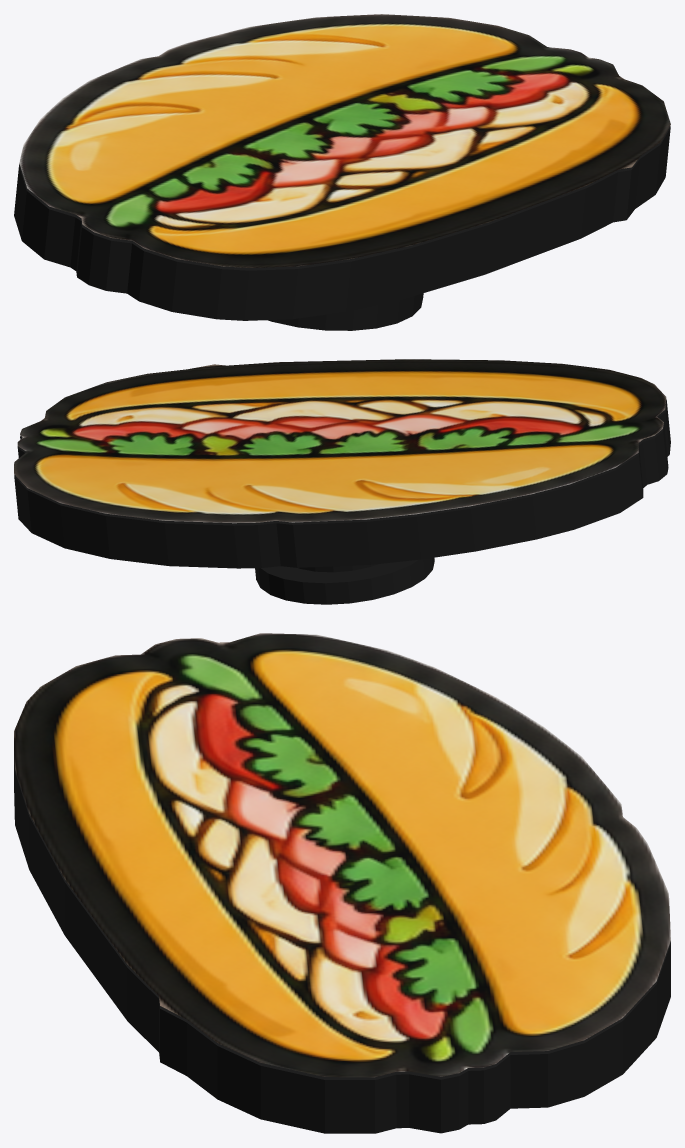
File: vietnam-banh-mi.glb
The picture shows the model from 3 angles, top to bottom: view 1: azimuth 30°, elevation 25°; view 2: azimuth 150°, elevation 25°; view 3: azimuth 270°, elevation 25°; orthographic projection. The views are drawn at different scales.
Visible parts, largest first — view 1: VIETNAM_Banh_Mi_MODEL; view 2: VIETNAM_Banh_Mi_MODEL; view 3: VIETNAM_Banh_Mi_MODEL.
Boxes of the visible parts, x1,y1,x2,y2 form: VIETNAM_Banh_Mi_MODEL: [14, 14, 670, 330]; VIETNAM_Banh_Mi_MODEL: [14, 359, 670, 604]; VIETNAM_Banh_Mi_MODEL: [14, 633, 670, 1133].
Bounding box in the file's own units: 0.3508 × 0.1012 × 0.2674.
Materials: 3 (1 with a texture image).
